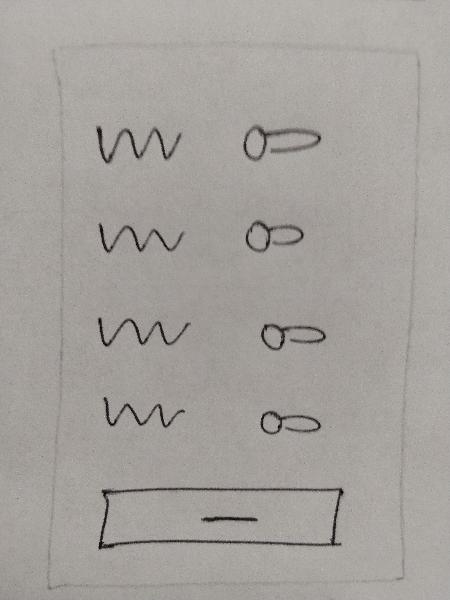button: (87, 475, 354, 555)
switch: (232, 111, 334, 169), (249, 307, 339, 360), (239, 210, 313, 272), (249, 398, 337, 449)
text: (83, 114, 200, 172), (91, 301, 201, 357), (89, 209, 199, 264), (91, 386, 203, 435)
